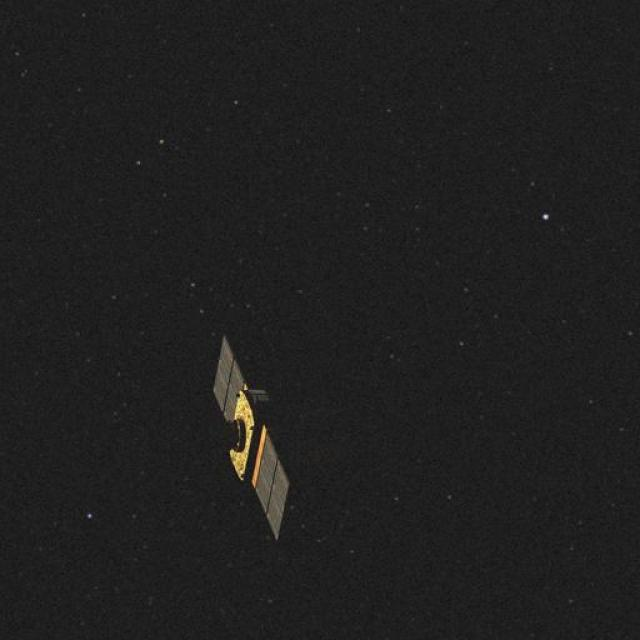soho: (160, 334, 352, 542)
